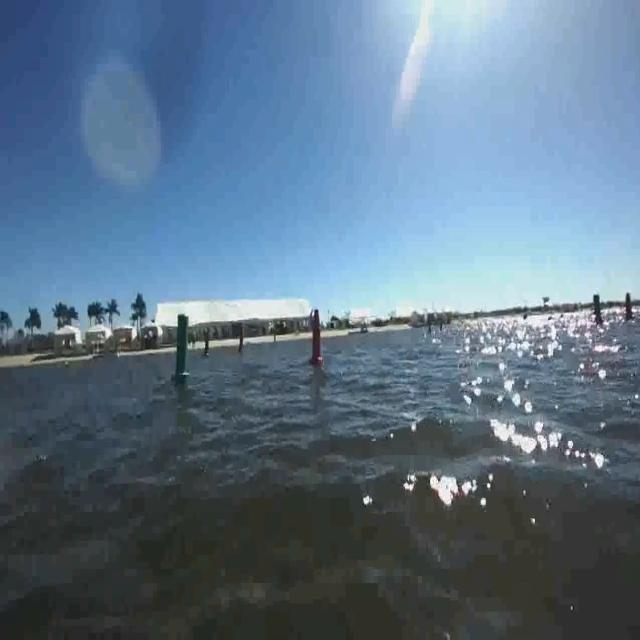green-column-buoy: (172, 311, 192, 382), (588, 291, 603, 324)
red-column-buoy: (308, 309, 326, 368), (623, 290, 635, 320), (238, 328, 247, 355)
